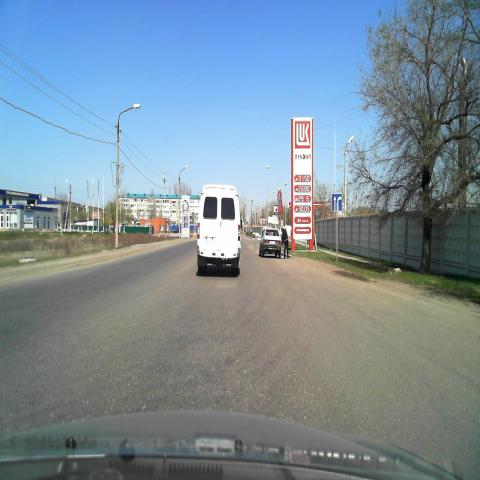5_15_2_2: (331, 192, 342, 212)
